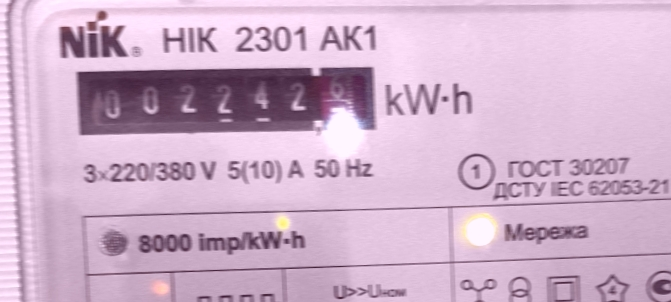0: (101, 90, 122, 124), (139, 86, 159, 119)
2: (213, 84, 233, 119), (177, 85, 197, 117), (288, 83, 306, 116)
4: (252, 81, 269, 114)
6: (327, 76, 344, 103)
screen: (65, 52, 386, 154)
